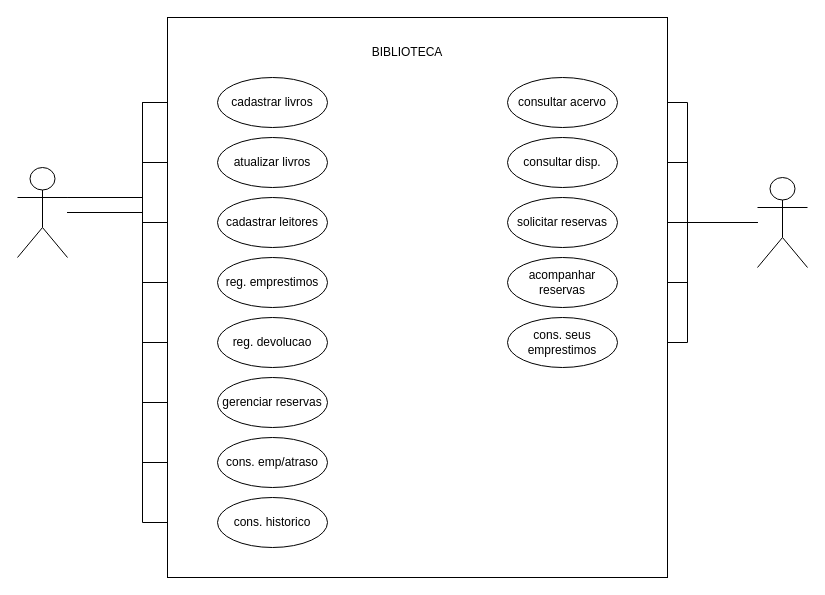
This 825x595 diagram has some shape labels left out. The shapes that lost their labels are listed below. From the top down, each one's box as (x1, y1, x2, y2) in pixels, then its label:
(16, 166, 68, 258): admin
(756, 176, 808, 268): leitor
